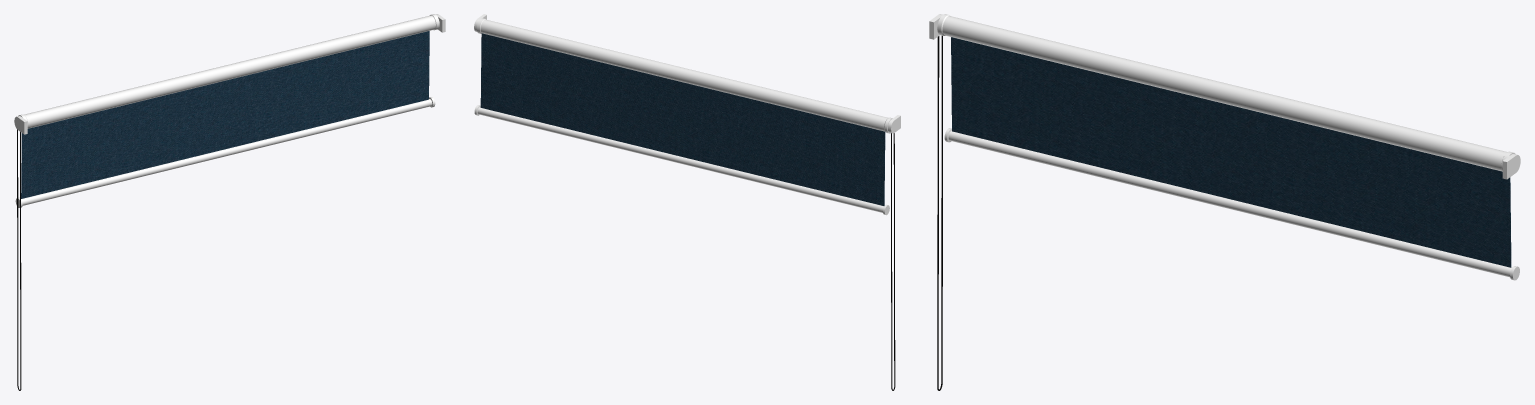
The model's file is Curtain.FBX.
3 views of the same model, side by side, from view 1: azimuth 30°, elevation 25°; view 2: azimuth 150°, elevation 25°; view 3: azimuth 330°, elevation 25° (orthographic). The views are drawn at different scales.
Parts seen in each view (by area): view 1: curtain; view 2: curtain; view 3: curtain.
Boxes of the visible parts, bbox=[...] form: curtain: bbox=[14, 14, 445, 390]; curtain: bbox=[474, 14, 900, 390]; curtain: bbox=[929, 14, 1520, 390].
Bounding box in the file's own units: 207 × 129 × 10.59.
Materials: 1 (1 with a texture image).
